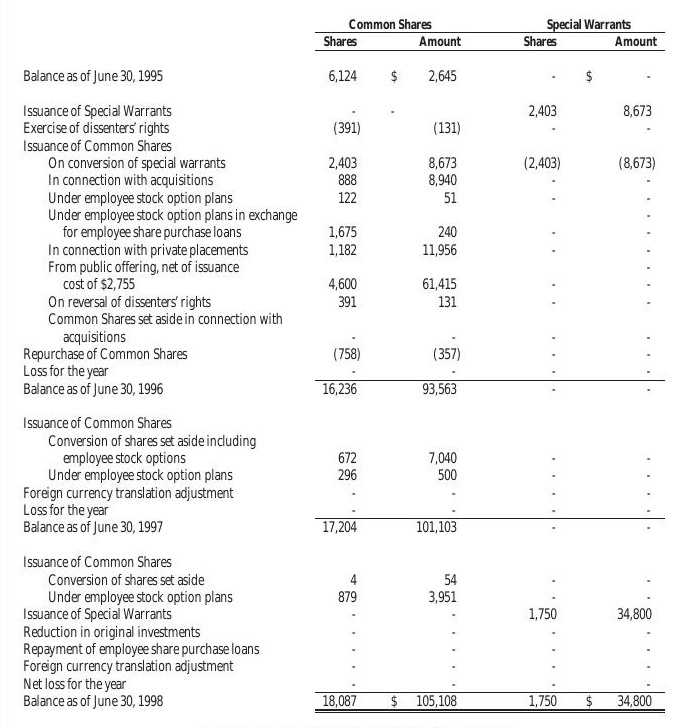table: (0, 0, 681, 728)
